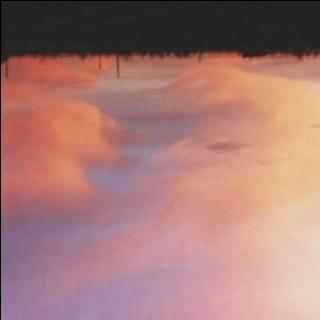Cirrostratus: (0, 38, 320, 320)
